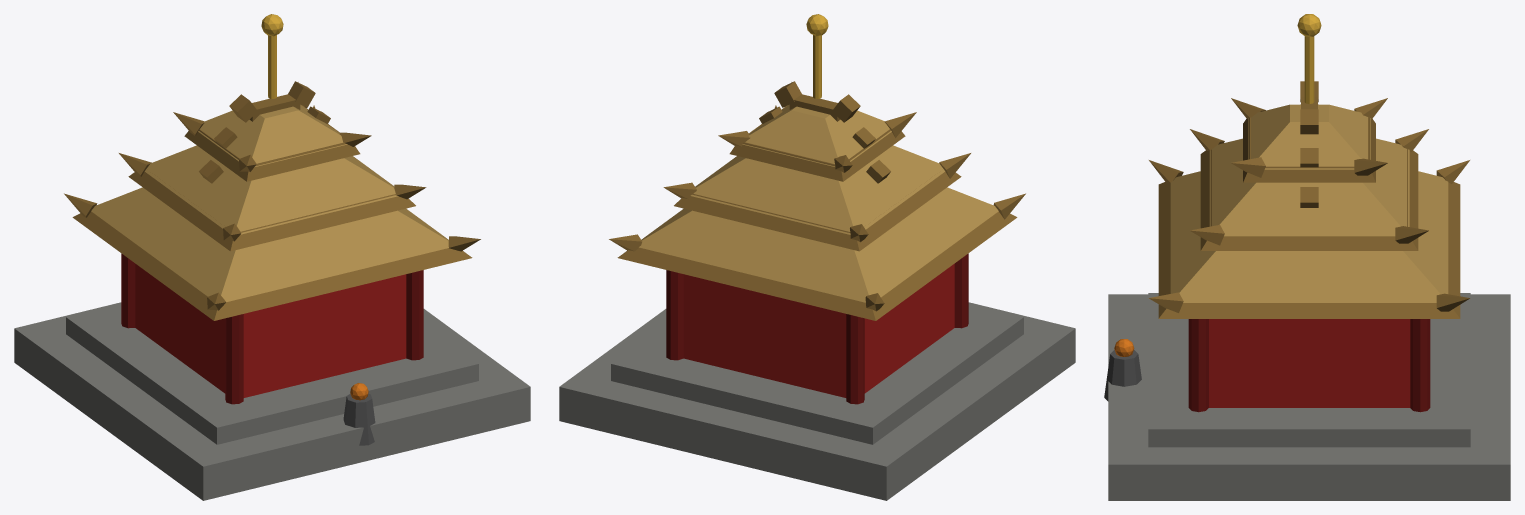
File: SM_GZ_temple_green.fbx
The picture shows the model from 3 angles, left to right: view 1: azimuth 30°, elevation 25°; view 2: azimuth 150°, elevation 25°; view 3: azimuth 270°, elevation 25°; orthographic projection. The views are drawn at different scales.
Visible parts, largest first — view 1: SM_GZ_temple_green; view 2: SM_GZ_temple_green; view 3: SM_GZ_temple_green.
Part boxes in pixels (x1,y1,x2,y2): SM_GZ_temple_green: [14, 14, 530, 500]; SM_GZ_temple_green: [559, 14, 1075, 500]; SM_GZ_temple_green: [1104, 14, 1510, 500].
Bounding box in the file's own units: 1000 × 1100 × 1010.
